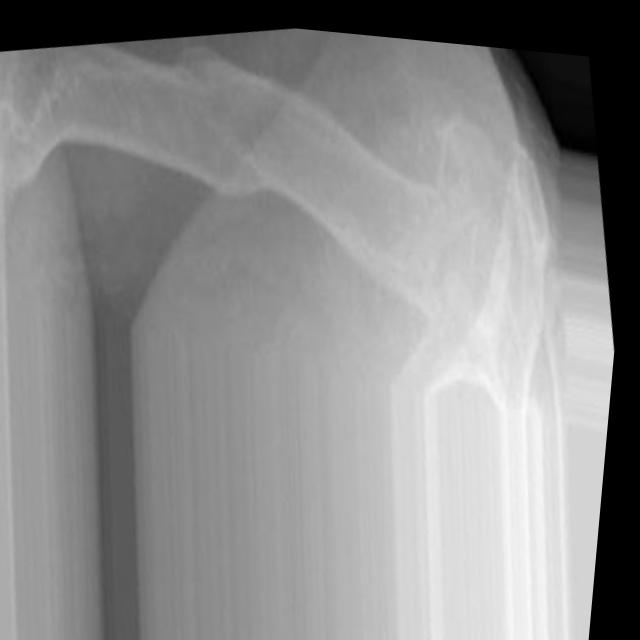fracture: (149, 19, 288, 229)
